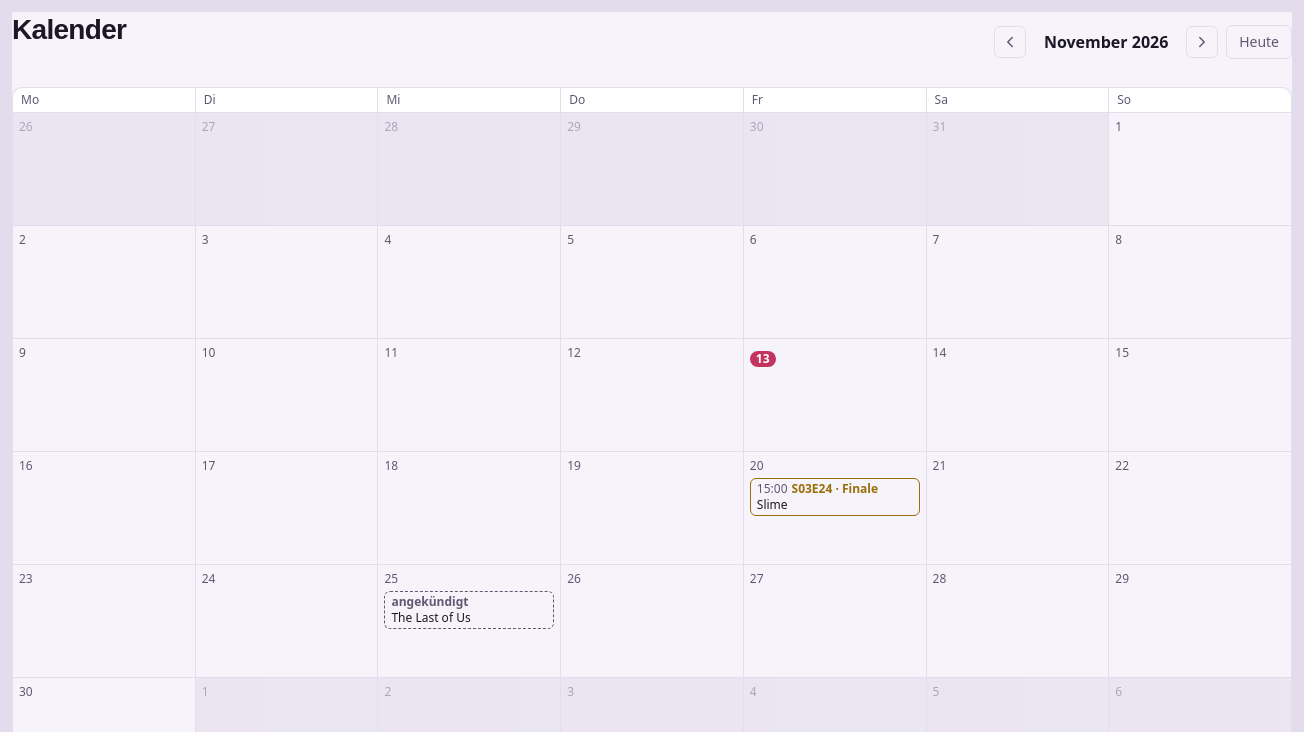
Test: month view shows entries and navigates
Expected: the text "November 2026" is shown, x1=1034 y1=30 x2=1178 y2=54
Click the button named "Nächster Monat": (1202, 42) x1=1186 y1=26 x2=1218 y2=58
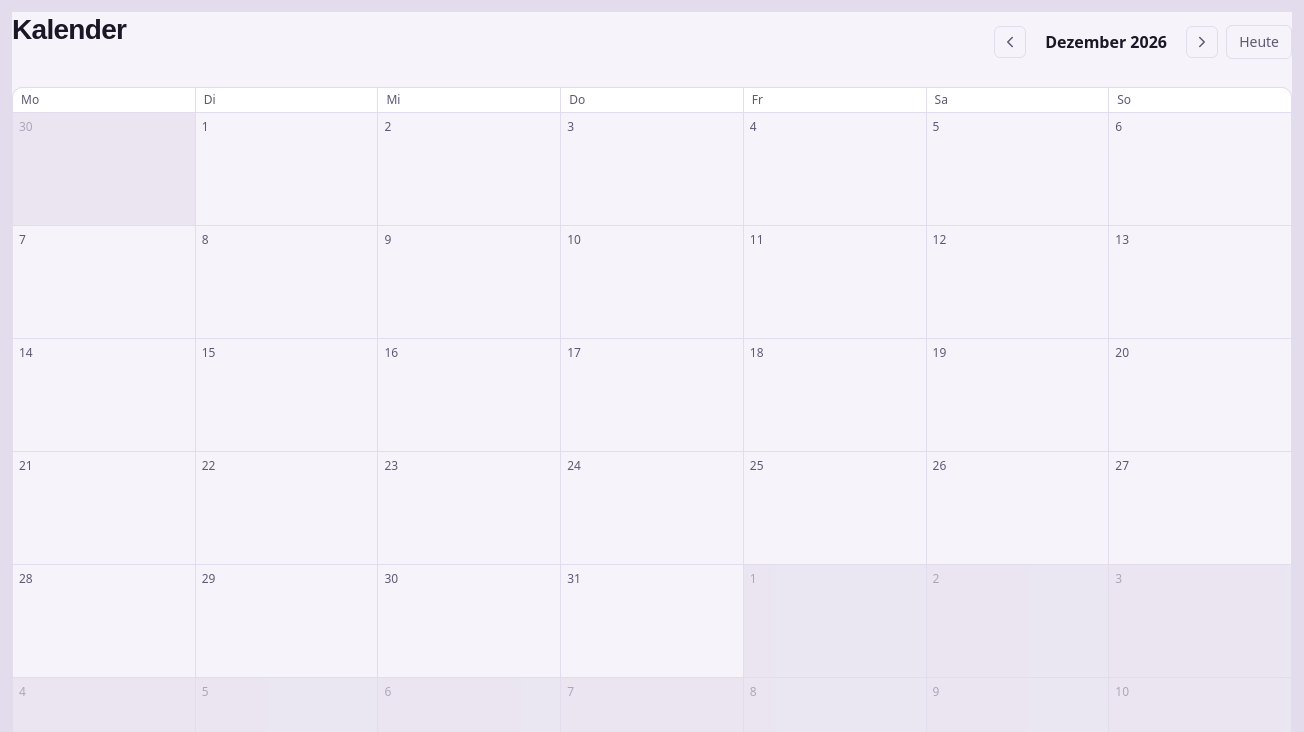
Click the button "Heute": (1259, 42) x1=1226 y1=24 x2=1292 y2=58
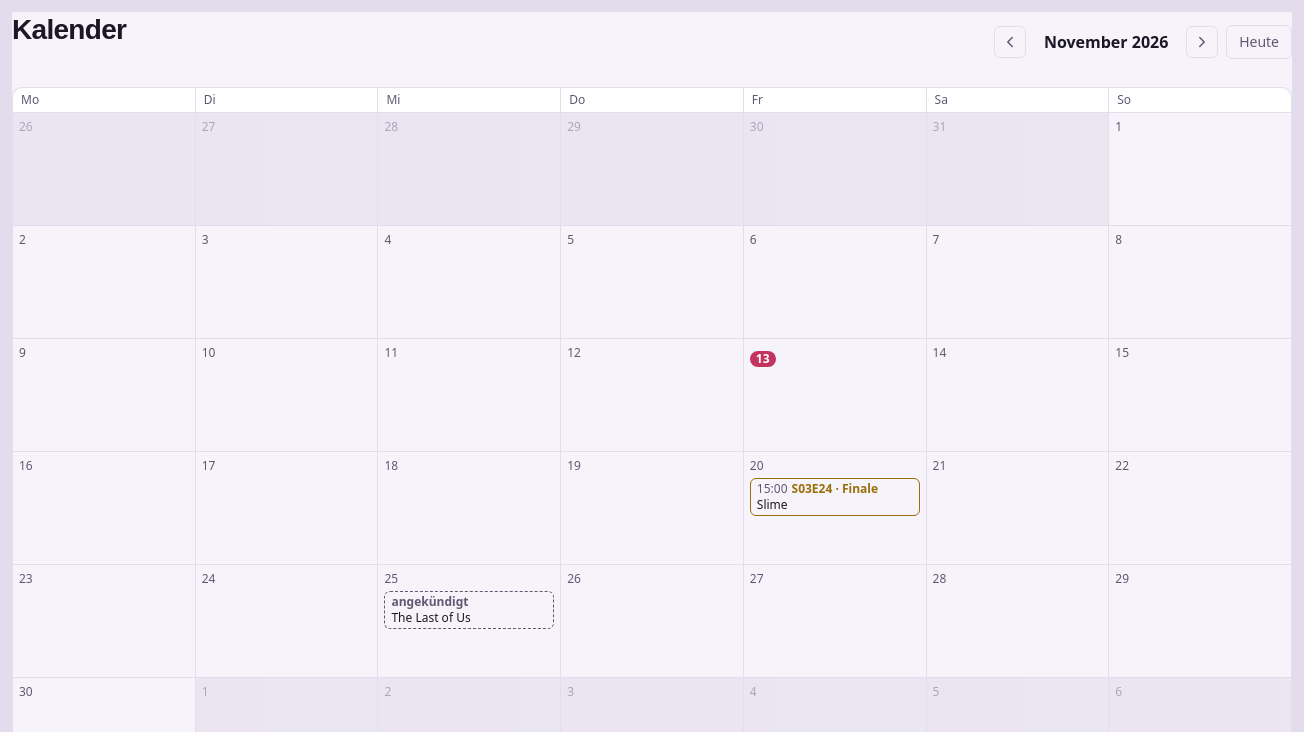
Now the text "November 2026" is shown, box x1=1034 y1=30 x2=1178 y2=54
Click the button named "Vorheriger Monat": (1010, 42) x1=994 y1=26 x2=1026 y2=58
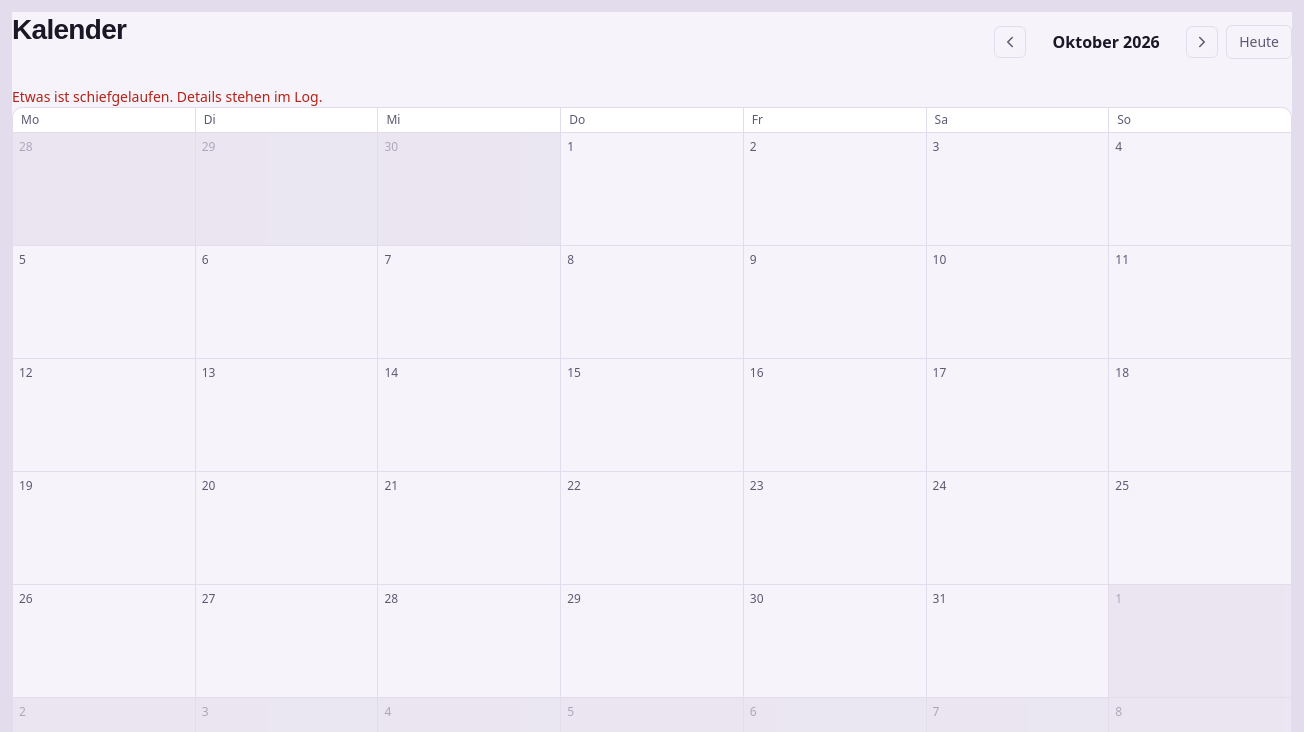
Now the text "Oktober 2026" is shown, box x1=1053 y1=30 x2=1160 y2=52
